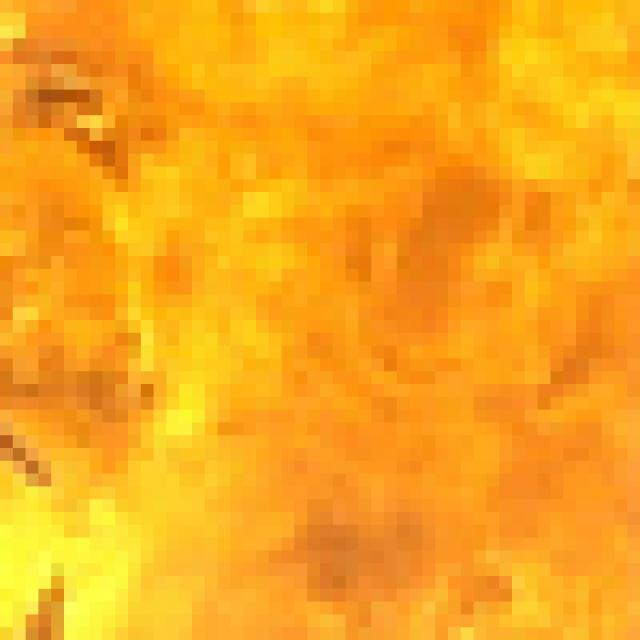fire: (14, 19, 640, 621)
